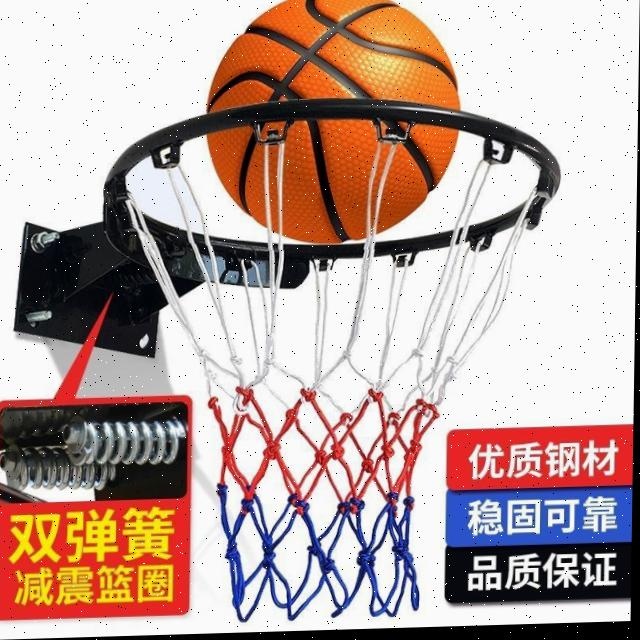basketball: (203, 0, 464, 246)
hoop: (102, 92, 558, 637)
